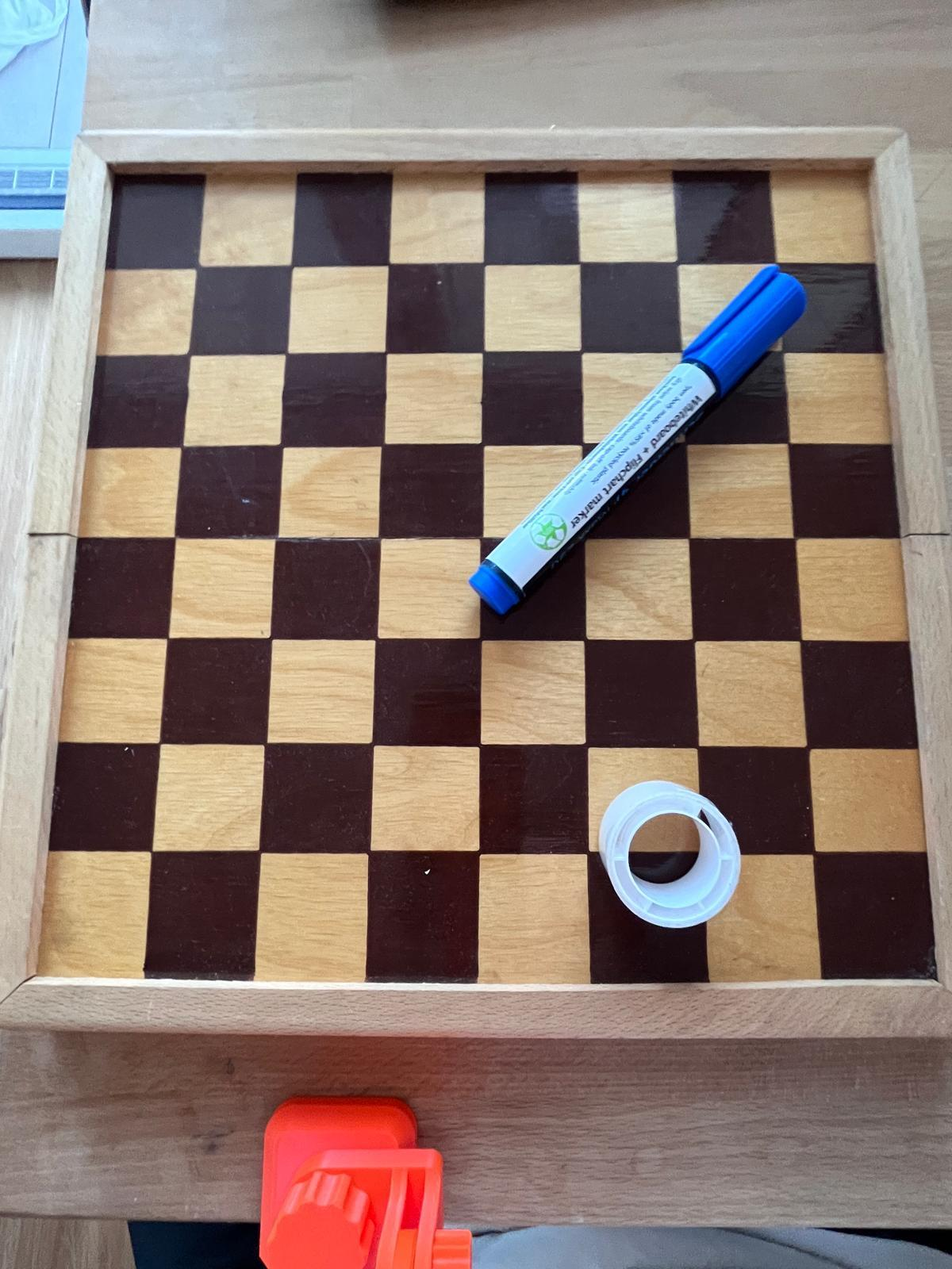marker: (466, 263, 819, 620)
tape: (597, 785, 743, 928)
